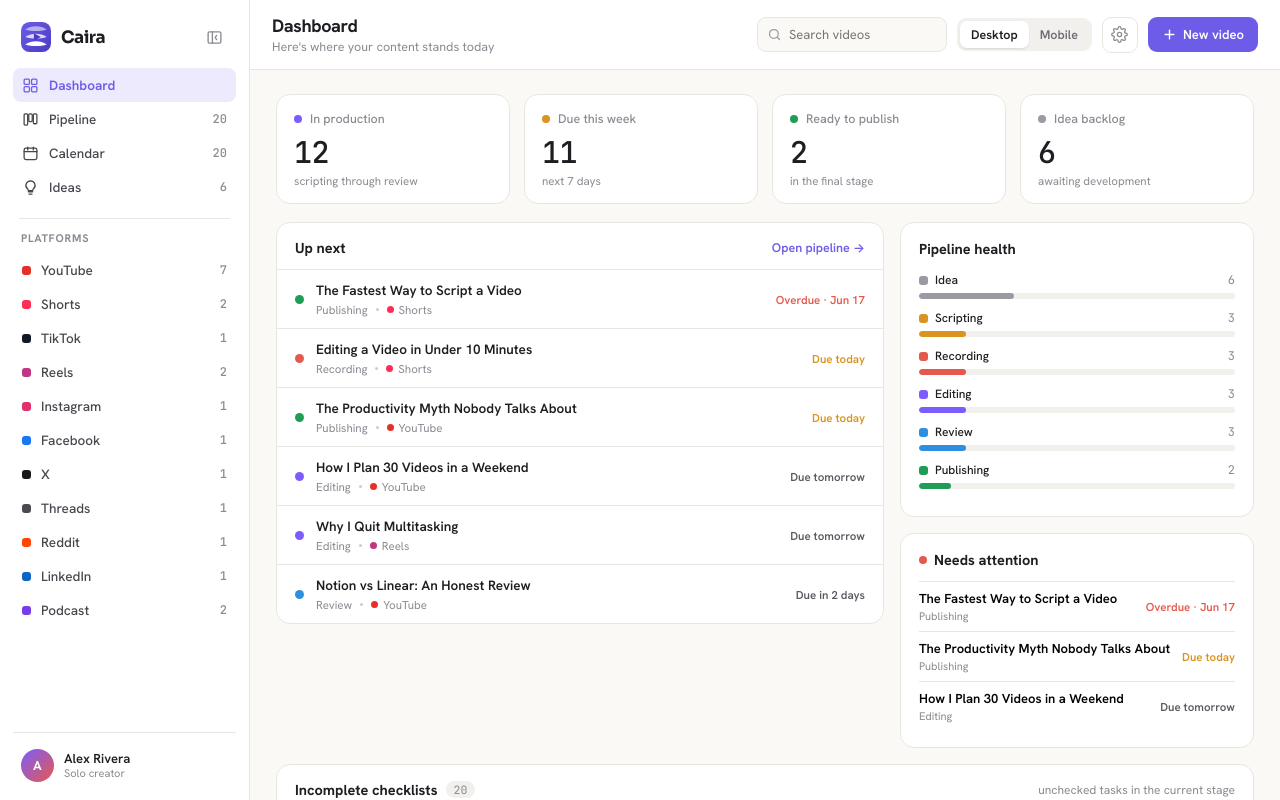
Test: capturing an idea adds it to the Ideas view
The image size is (1280, 800).
Click the button "Ideas 6" at (124, 187), box [13,170,236,204]
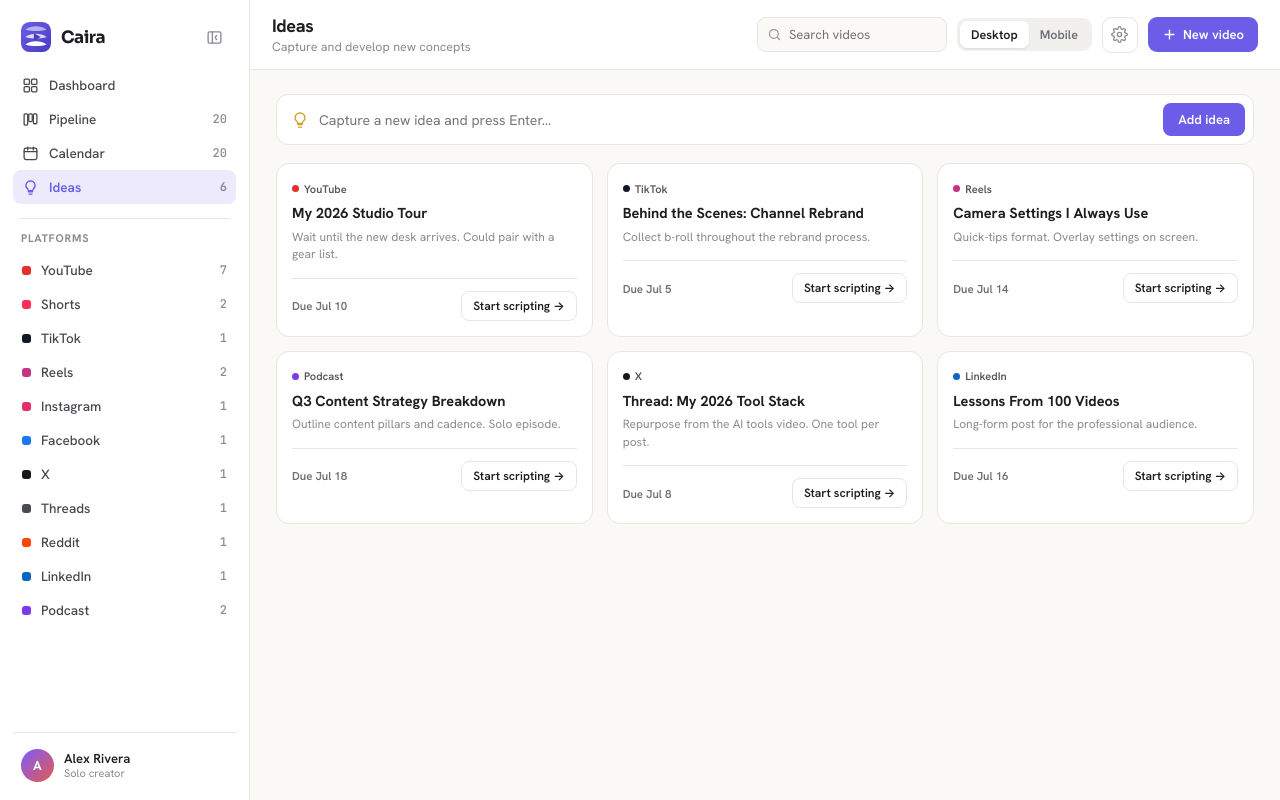
Type "A brand new test idea" into the field with placeholder "Capture a new idea and press Enter…" at (736, 120), box [319,110,1153,128]
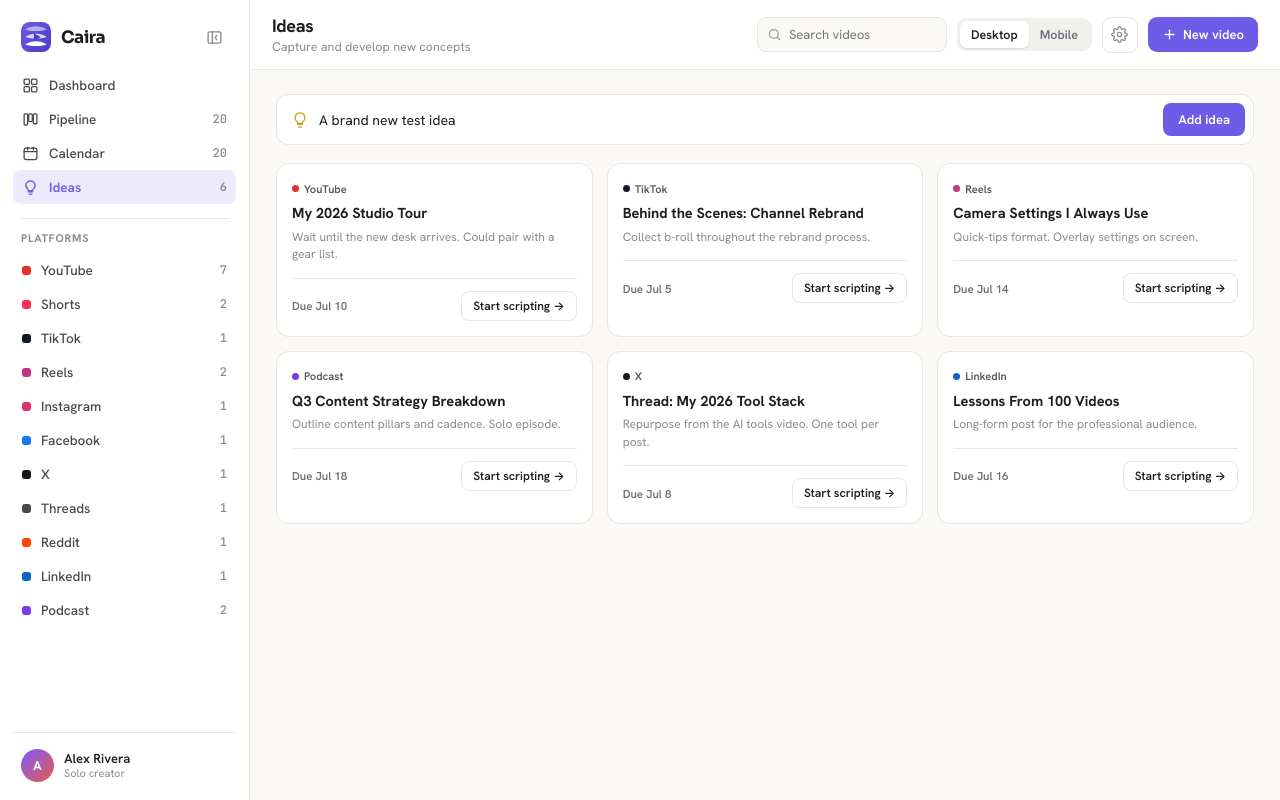
Click the button "Add idea" at (1204, 120), box [1163,103,1245,136]
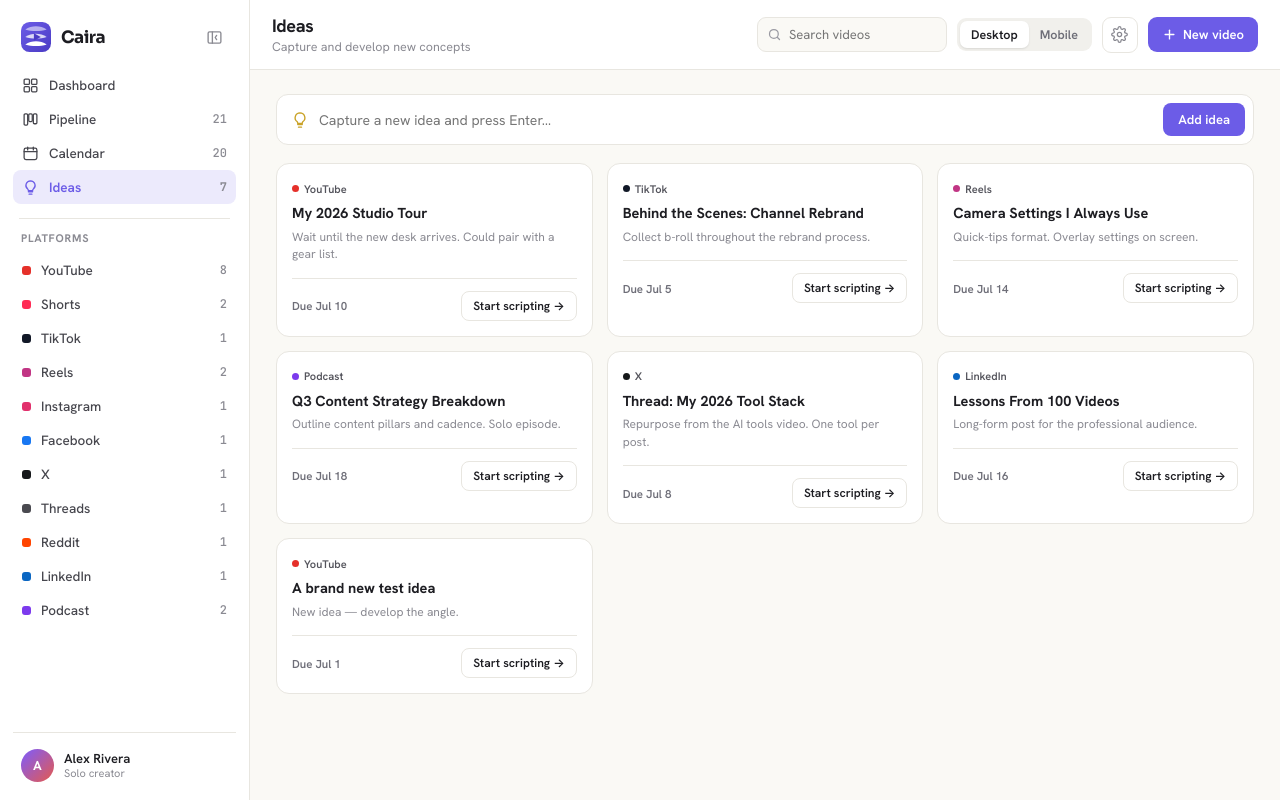
Expected: the button "Start scripting →" next to "Due Jul 10" is shown, [461,291,577,321]
Expected: the text "A brand new test idea" is shown, [292,578,435,597]
